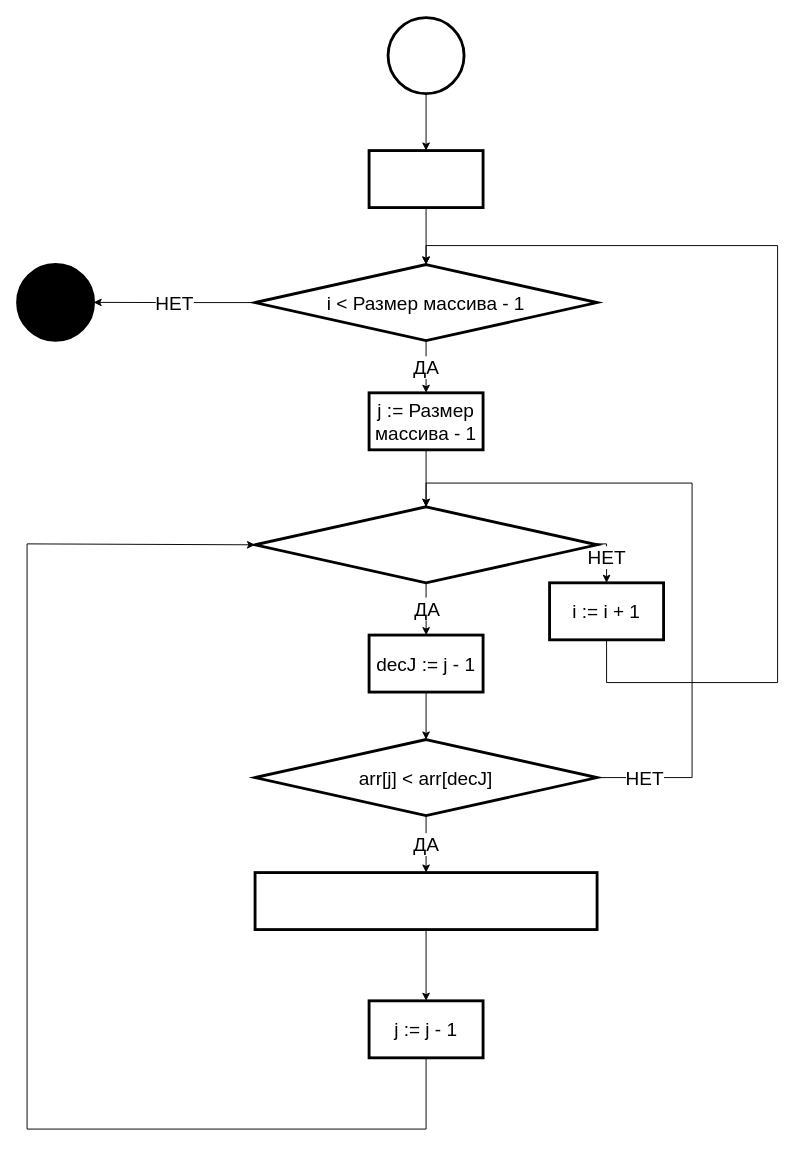
This 802x1153 diagram has some shape labels left out. The centre of each missing label's shape, as x and y in pixels:
i := 0: (425,179)
j > i: (425,544)
Меняем местами arr[j] и arr[decJ]: (425,901)
